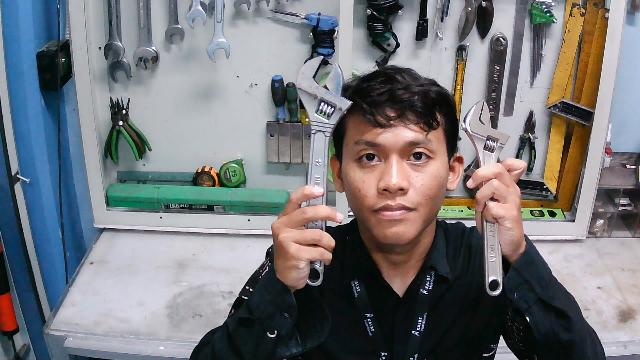kunci_inggris: (291, 57, 353, 291), (461, 99, 512, 298)
